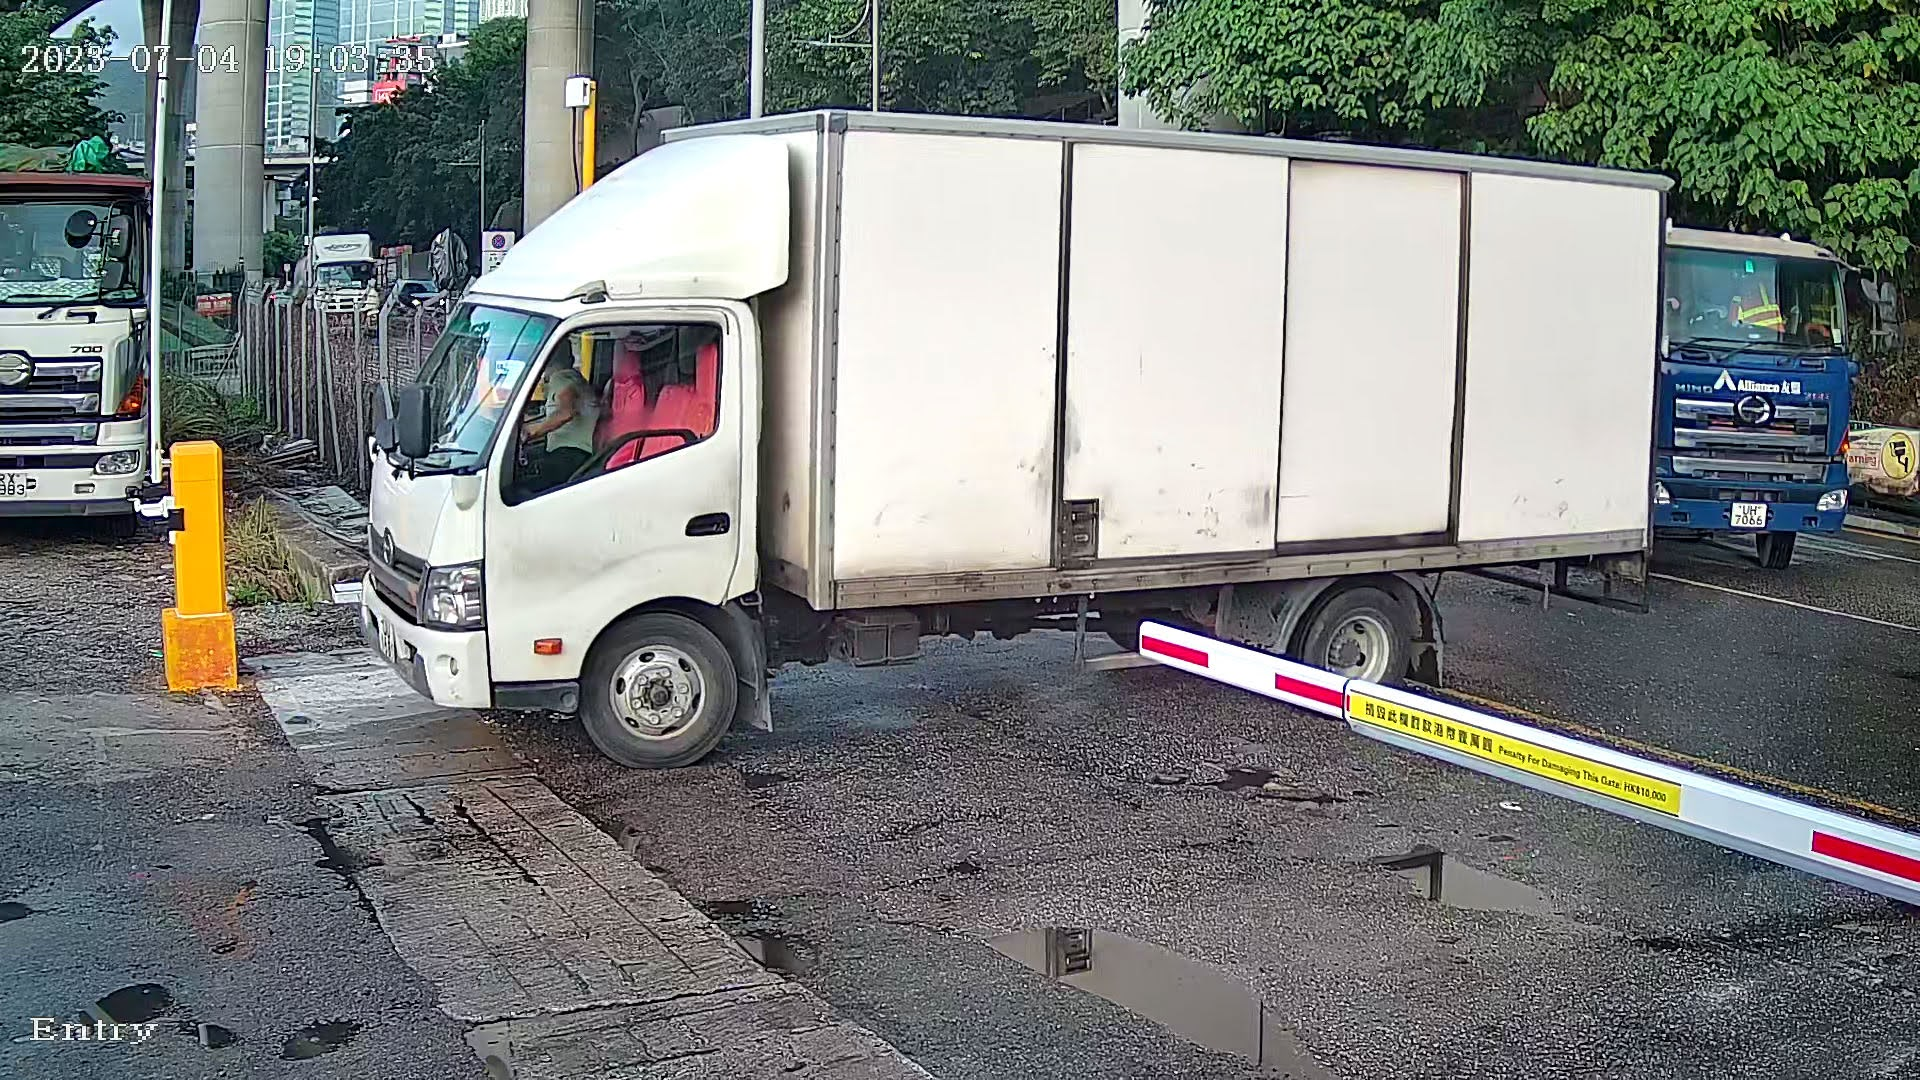truck_small: (331, 75, 1706, 781)
